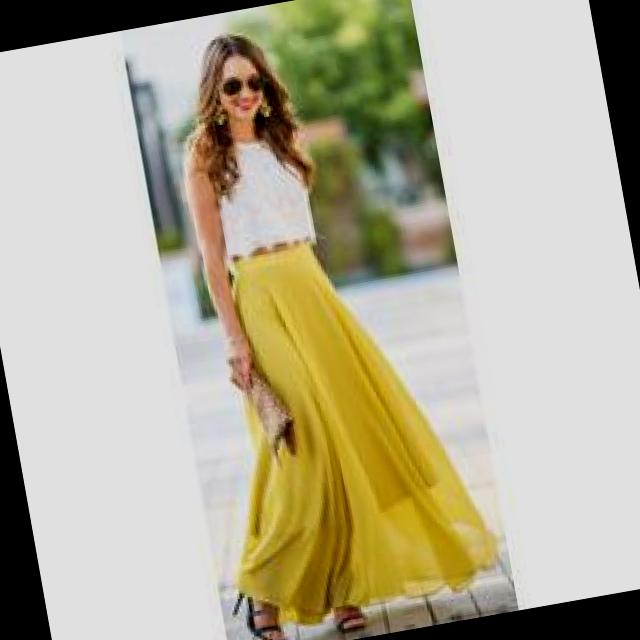Tshirt: (198, 102, 320, 262)
skirt: (182, 222, 500, 634)
